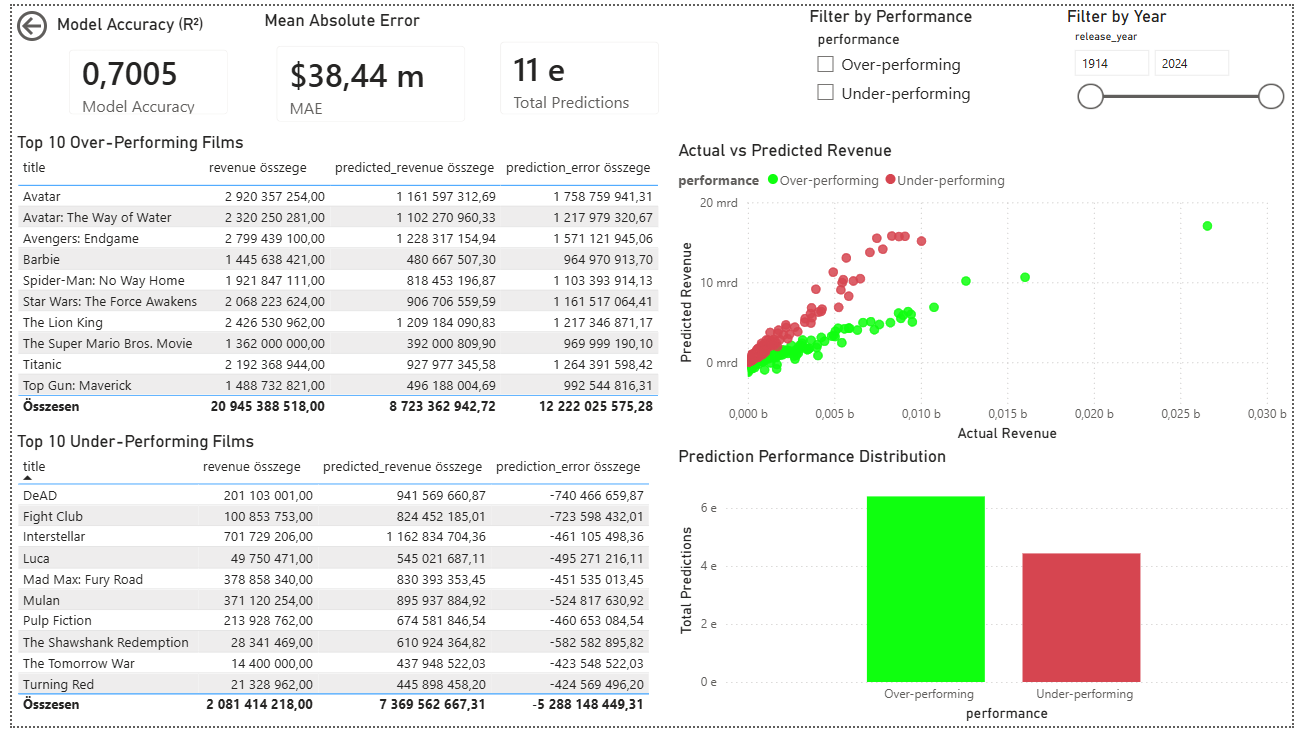

What the dashboard file says about the page in this screenshot:
{"tool":"powerbi","page":{"name":"ML Predictions","canvas":[1280,720],"ordinal":3},"visuals":[{"type":"cardVisual","title":"Model Accuracy (R²)","fields":{"Data":["ml_predictions.Model Accuracy"]},"box":[40,7.5,193.8,118.8],"z":0},{"type":"cardVisual","title":"Mean Absolute Error","fields":{"Data":["ml_predictions.MAE"]},"box":[247.5,3.8,223.8,130],"z":1000},{"type":"cardVisual","fields":{"Data":["ml_predictions.Total Predictions"]},"box":[471.2,18.8,193.8,107.5],"z":2000},{"type":"scatterChart","title":"Actual vs Predicted Revenue","fields":{"X":["Sum(ml_predictions.revenue)"],"Y":["Sum(ml_predictions.predicted_revenue)"],"Series":["ml_predictions.performance"],"Category":["ml_predictions.budget"]},"box":[661.2,133.8,618.8,306.2],"z":3000},{"type":"actionButton","box":[0,0,100,40],"z":4000},{"type":"slicer","title":"Filter by Year","fields":{"Values":["ml_predictions.release_year"]},"box":[1050,0,230,133.8],"z":5000},{"type":"slicer","title":"Filter by Performance","fields":{"Values":["ml_predictions.performance"]},"box":[792.5,0,235,115],"z":6000},{"type":"tableEx","title":"Top 10 Over-Performing Films","fields":{"Values":["ml_predictions.title","Sum(ml_predictions.revenue)","Sum(ml_predictions.predicted_revenue)","Sum(ml_predictions.prediction_error)"]},"box":[0,126.2,661.2,298.8],"z":7000},{"type":"tableEx","title":"Top 10 Under-Performing Films","fields":{"Values":["ml_predictions.title","Sum(ml_predictions.revenue)","Sum(ml_predictions.predicted_revenue)","Sum(ml_predictions.prediction_error)"]},"box":[0,425,652.5,295],"z":8000},{"type":"clusteredColumnChart","title":"Prediction Performance Distribution","fields":{"Category":["ml_predictions.performance"],"Y":["ml_predictions.Total Predictions"]},"box":[661,440,619,280],"z":9000}]}

Visuals, with their boxes in screenshot pixels (x1, y1, x2, y2), scaled from the page's 1280x720 canvas onto the 1303x732 screenshot:
"Model Accuracy (R²)" cardVisual: {"x1": 41, "y1": 8, "x2": 238, "y2": 128}
"Mean Absolute Error" cardVisual: {"x1": 252, "y1": 4, "x2": 480, "y2": 136}
cardVisual - ml_predictions.Total Predictions: {"x1": 480, "y1": 19, "x2": 677, "y2": 128}
"Actual vs Predicted Revenue" scatterChart: {"x1": 673, "y1": 136, "x2": 1302, "y2": 447}
actionButton: {"x1": 0, "y1": 0, "x2": 102, "y2": 41}
"Filter by Year" slicer: {"x1": 1069, "y1": 0, "x2": 1302, "y2": 136}
"Filter by Performance" slicer: {"x1": 807, "y1": 0, "x2": 1046, "y2": 117}
"Top 10 Over-Performing Films" tableEx: {"x1": 0, "y1": 128, "x2": 673, "y2": 432}
"Top 10 Under-Performing Films" tableEx: {"x1": 0, "y1": 432, "x2": 664, "y2": 731}
"Prediction Performance Distribution" clusteredColumnChart: {"x1": 673, "y1": 447, "x2": 1302, "y2": 731}
